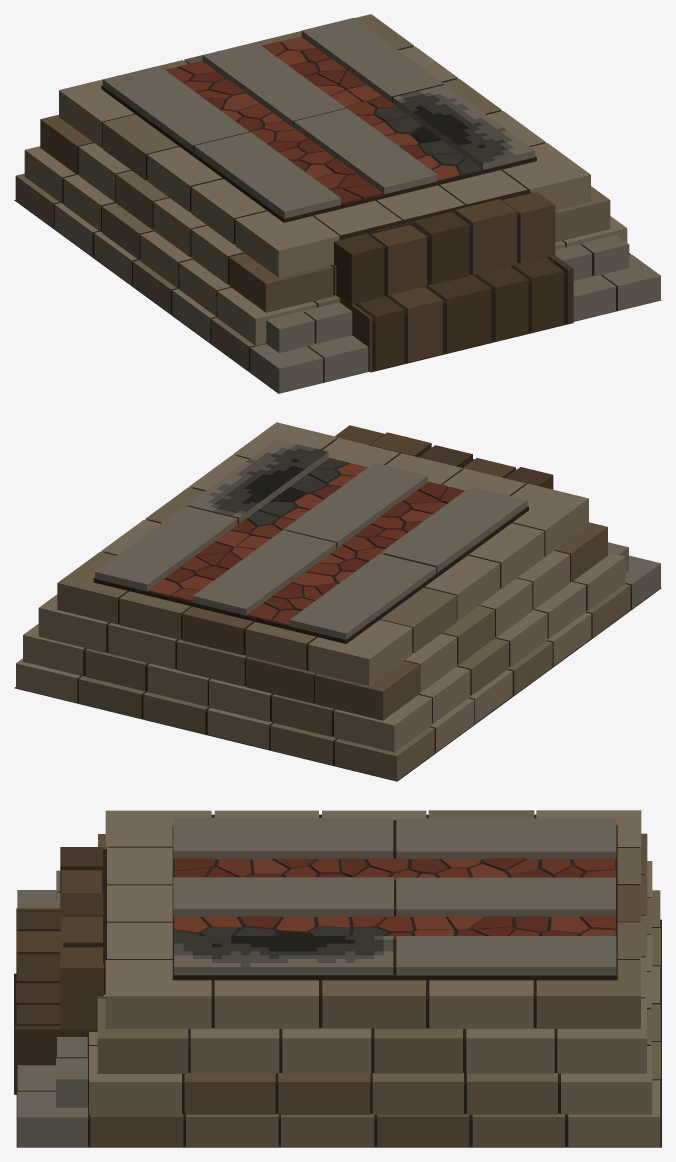
File: ZonRuin01.glb
3 views of the same model, one above another, from view 1: azimuth 30°, elevation 25°; view 2: azimuth 150°, elevation 25°; view 3: azimuth 270°, elevation 25° (orthographic). The views are drawn at different scales.
Visible parts, largest first — view 1: st_flag2; view 2: st_flag2; view 3: st_flag2.
Boxes of the visible parts, x1,y1,x2,y2 form: st_flag2: (14,14,661,393); st_flag2: (14,422,661,781); st_flag2: (14,810,661,1147).
Size of the model in its own units: 9.7 by 2.85 by 11.65.
